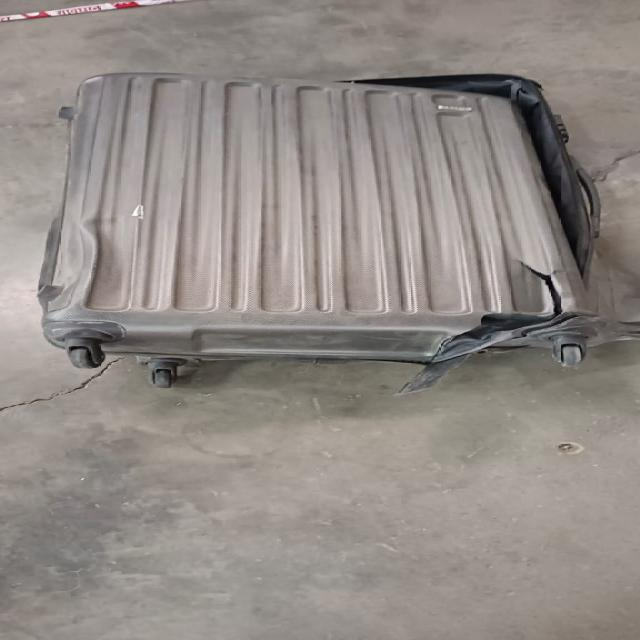Damage-bag: (353, 74, 600, 276), (397, 265, 597, 393), (317, 358, 428, 364)
